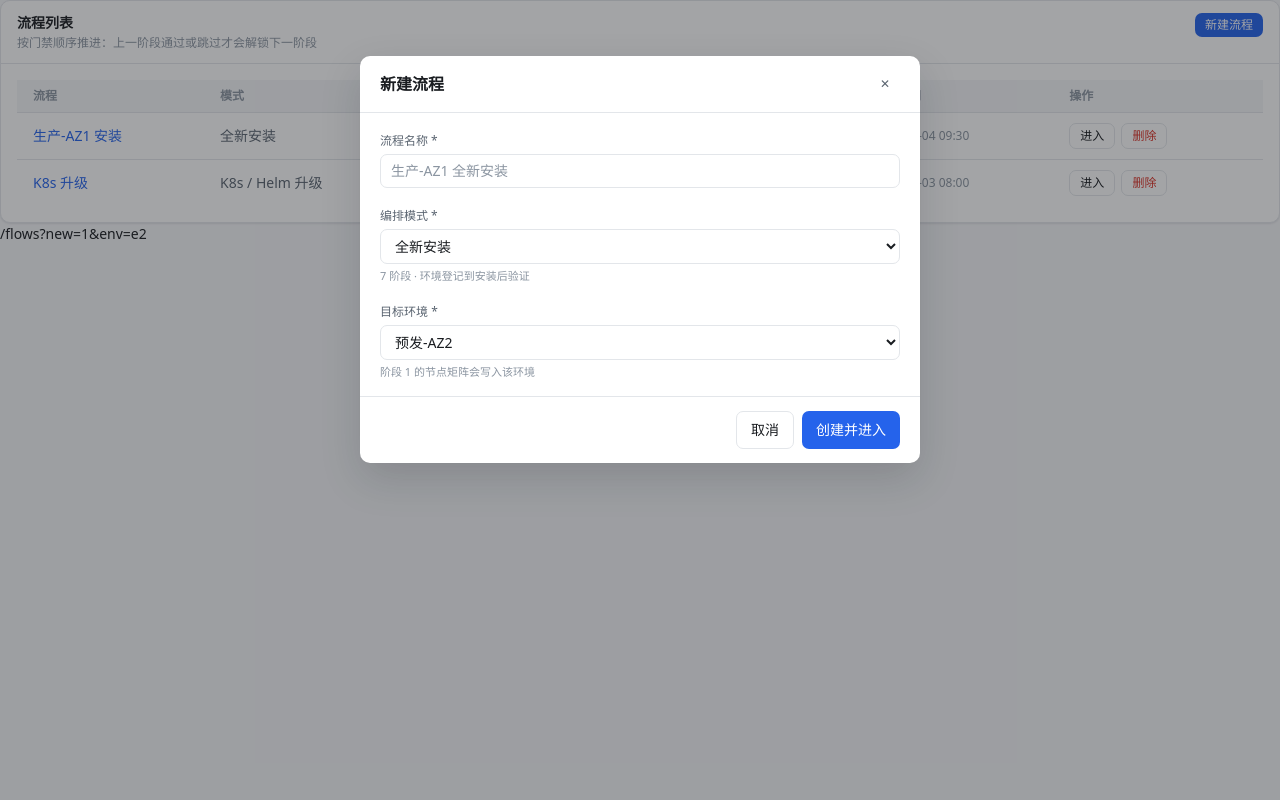
Test: Flows 新建入口 › 创建失败：停在列表页并显示后端消息
The width and height of the screenshot is (1280, 800).
Type "预发升级" into the field labelled "流程名称 *" at [640, 171], box [380,154,900,188]
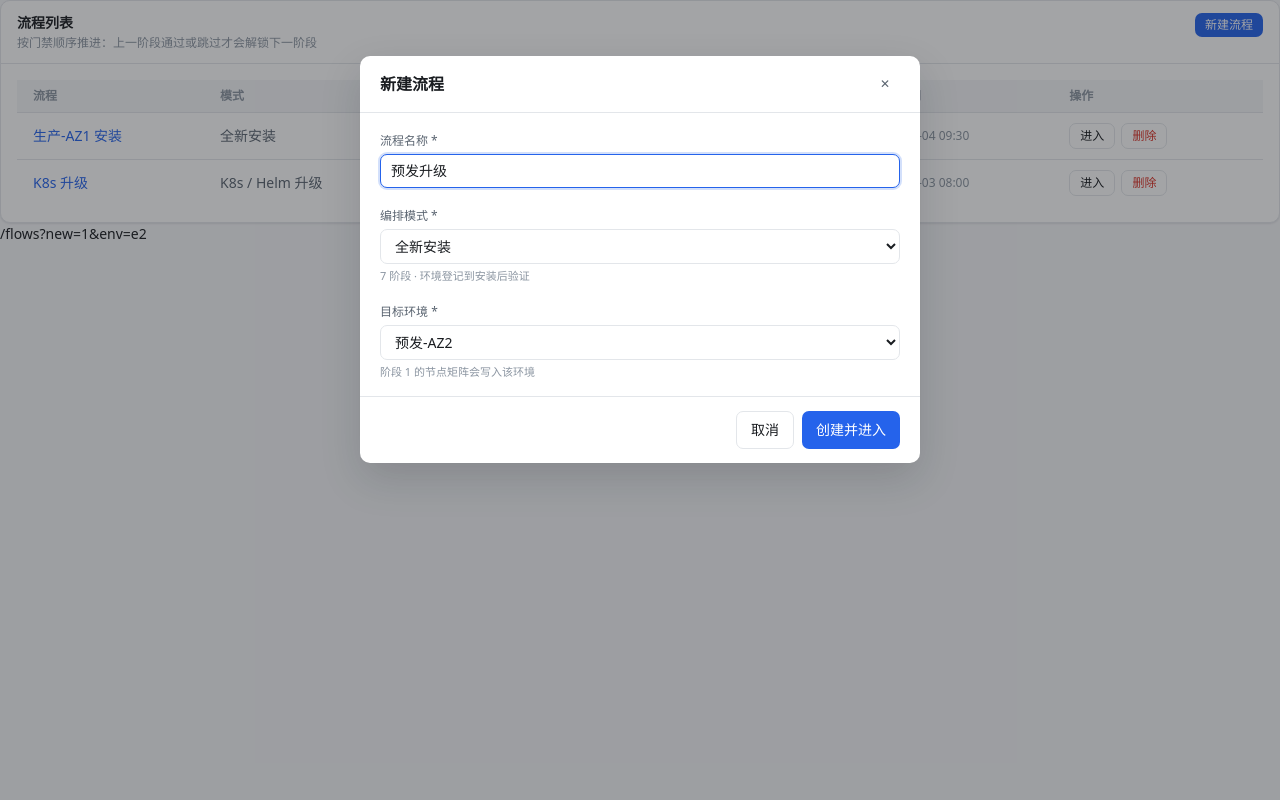
Click the button "创建并进入" at [851, 430], box [802,411,900,449]
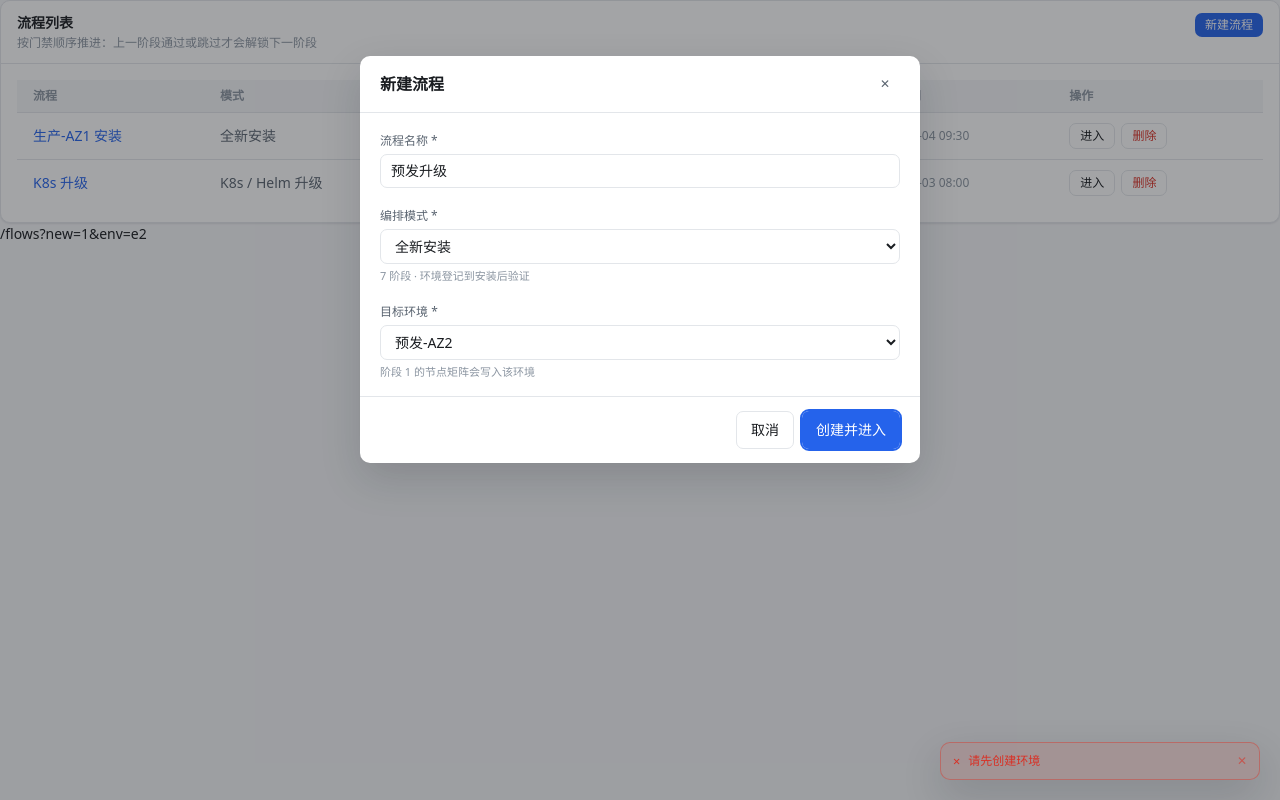
Expected: the text with test id "location" reads "/flows?new=1&env=e2", [0,224,147,243]
Expected: the text "请先创建环境" is shown, [968,752,1040,769]
